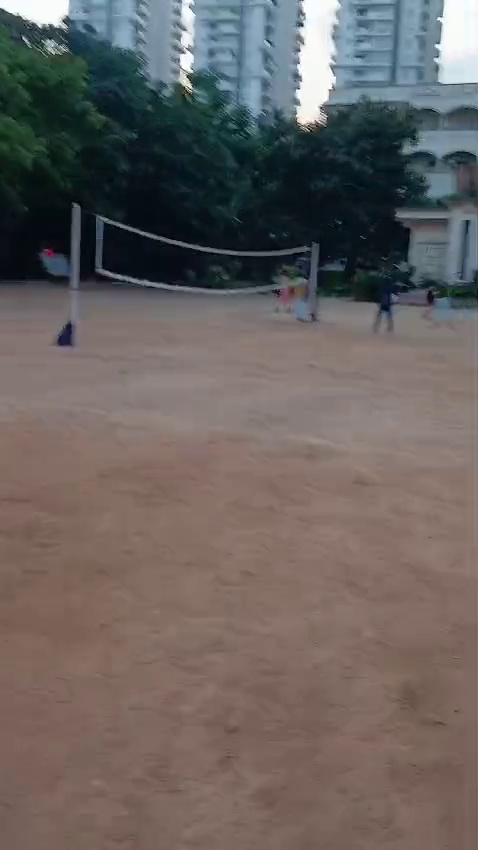bag: (54, 307, 74, 349)
